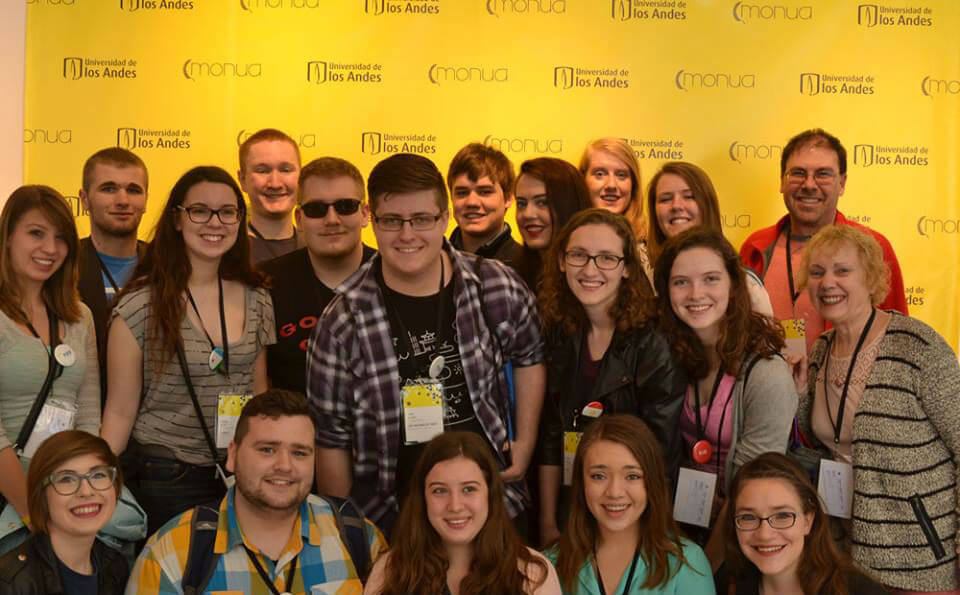person: (335, 143, 529, 415), (118, 154, 263, 425), (641, 231, 780, 494), (801, 225, 937, 493), (519, 205, 660, 454)
